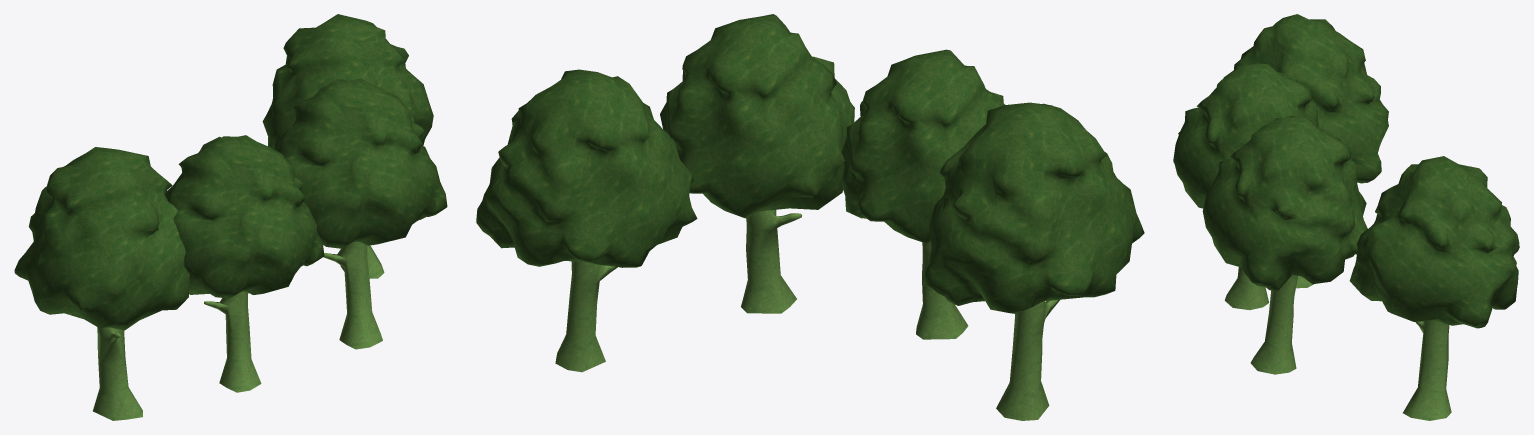
The model's file is SM_ENV_KNFRST_DistanceTreeE_GroupE.FBX.
The picture shows the model from 3 angles, left to right: view 1: azimuth 30°, elevation 25°; view 2: azimuth 150°, elevation 25°; view 3: azimuth 270°, elevation 25°; orthographic projection. The views are drawn at different scales.
Parts seen in each view (by area): view 1: SM_ENV_KNFRST_DistanceTreeE_GroupE; view 2: SM_ENV_KNFRST_DistanceTreeE_GroupE; view 3: SM_ENV_KNFRST_DistanceTreeE_GroupE.
Part boxes in pixels (x1=…): SM_ENV_KNFRST_DistanceTreeE_GroupE: x1=14, y1=14, x2=447, y2=420; SM_ENV_KNFRST_DistanceTreeE_GroupE: x1=476, y1=14, x2=1144, y2=420; SM_ENV_KNFRST_DistanceTreeE_GroupE: x1=1173, y1=14, x2=1519, y2=420.
Bounding box in the file's own units: 16641 × 9476 × 11095.
